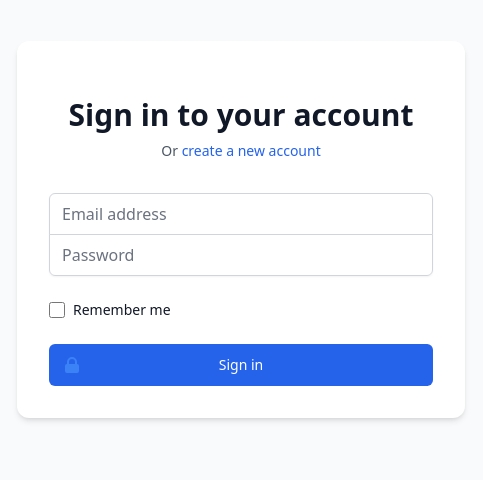
Login Component › validates form input
// Try to submit with empty fields
Click the button "Sign in": (241, 364) [49,344,433,386]
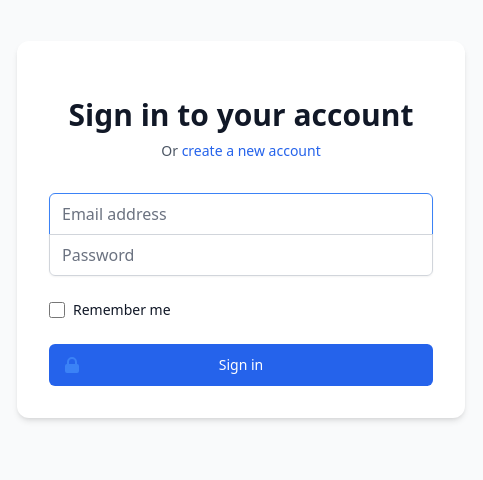
// Fill in with invalid short password
In the field with placeholder "Email address": (241, 214) [49,192,433,234], type "test@example.com"
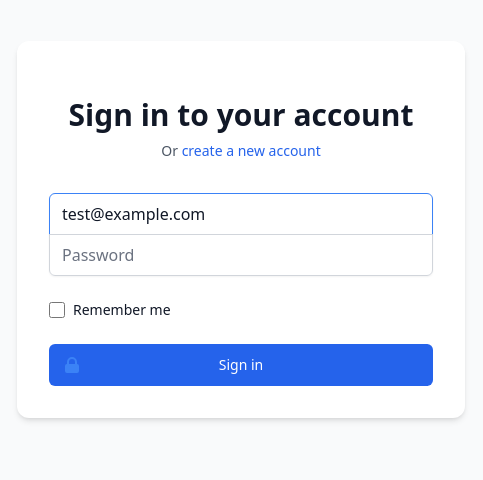
In the password field with placeholder "Password": (241, 254) [49,234,433,276], type "12345"
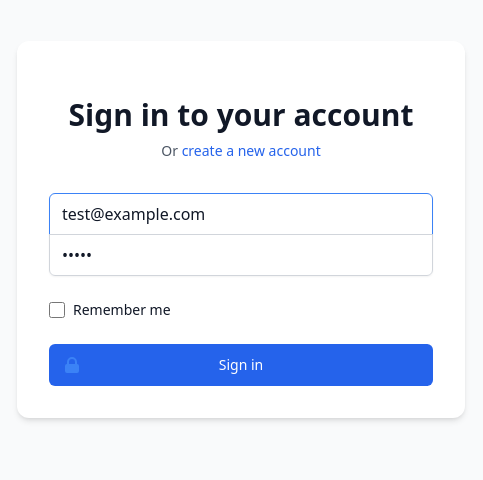
Click the button "Sign in": (241, 364) [49,344,433,386]
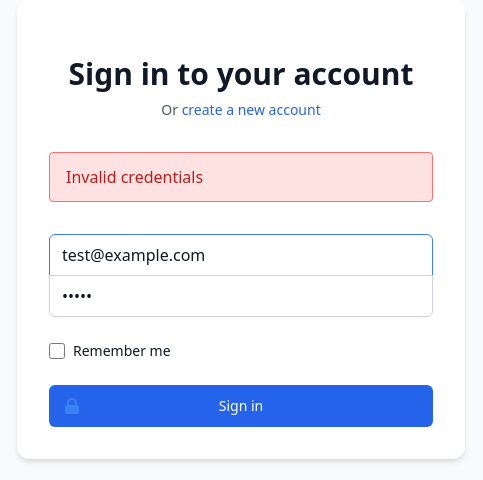
expect the text "Invalid credentials" is shown: met, box [66,166,203,188]
